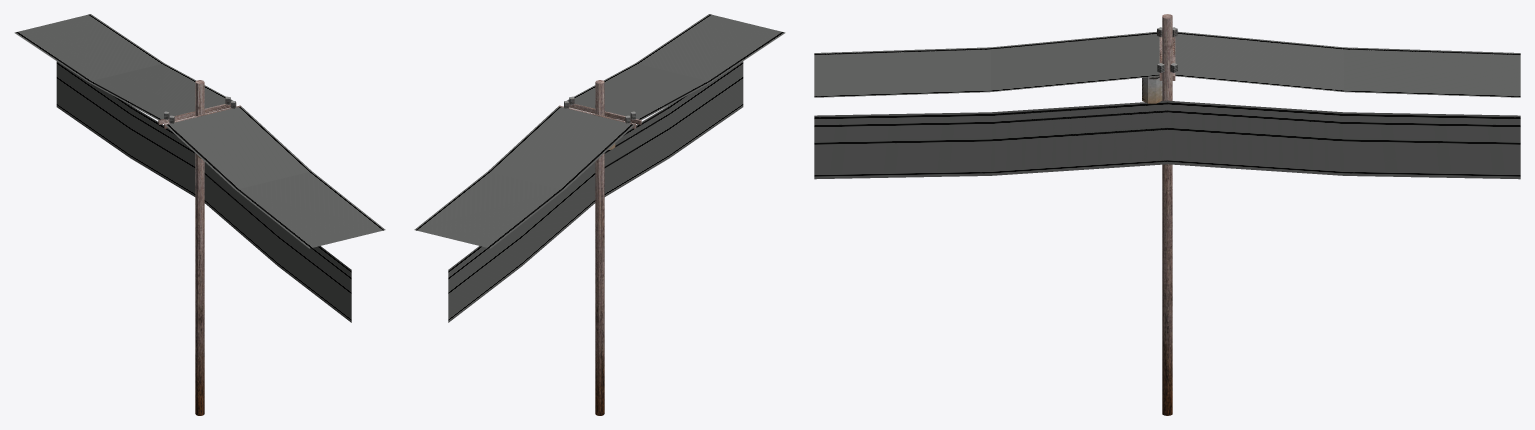
File: tpole20_2b.fbx
The picture shows the model from 3 angles, left to right: view 1: azimuth 30°, elevation 25°; view 2: azimuth 150°, elevation 25°; view 3: azimuth 270°, elevation 25°; orthographic projection. The views are drawn at different scales.
Visible parts, largest first — view 1: mesh_0; view 2: mesh_0; view 3: mesh_0.
Part boxes in pixels (box(x1,y1,x2,y2)): mesh_0: box(14, 14, 385, 415); mesh_0: box(414, 14, 785, 415); mesh_0: box(814, 14, 1520, 415).
Size of the model in its own units: 300 by 1242 by 2000.
Materials: 1 (1 with a texture image).
